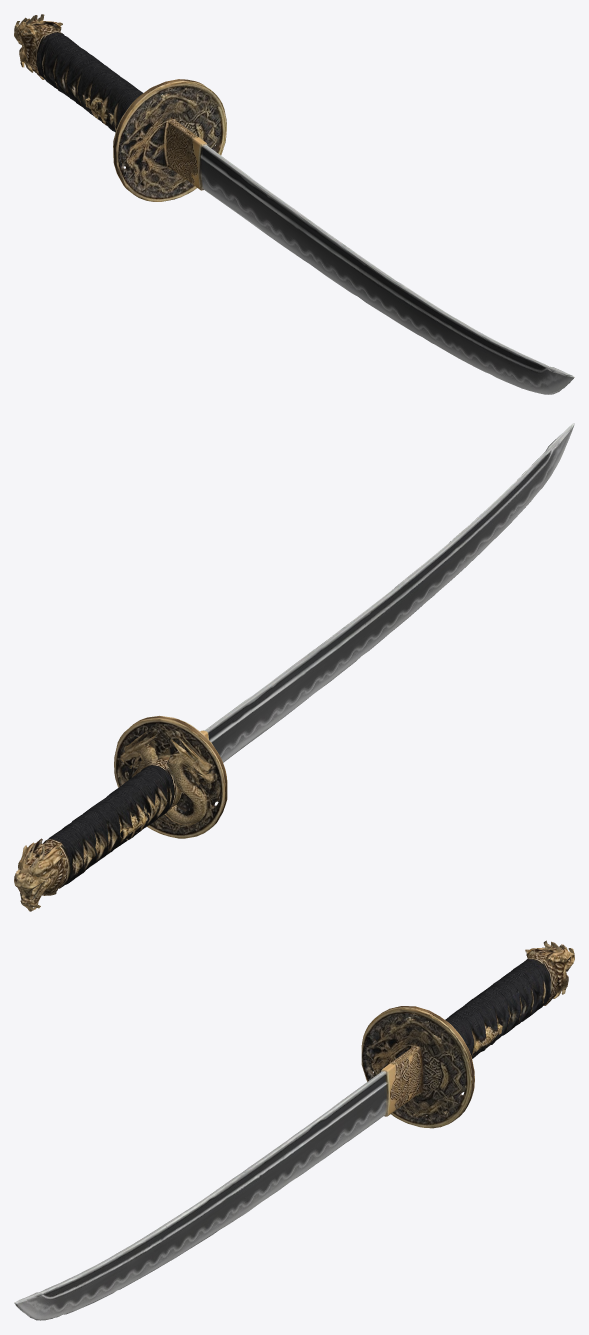
The model's file is katana.medium.glb.
3 views of the same model, one above another, from view 1: azimuth 30°, elevation 25°; view 2: azimuth 150°, elevation 25°; view 3: azimuth 330°, elevation 25° (orthographic).
Parts seen in each view (by area): view 1: model; view 2: model; view 3: model.
Part boxes in pixels (x1=…): model: x1=14, y1=14, x2=574, y2=394; model: x1=14, y1=423, x2=574, y2=911; model: x1=14, y1=940, x2=574, y2=1320.
Size of the model in its own units: 0.1156 by 0.1179 by 1.
Materials: 1 (1 with a texture image).
